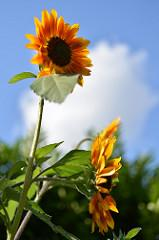sunflower: (28, 9, 94, 84), (90, 115, 124, 236)
